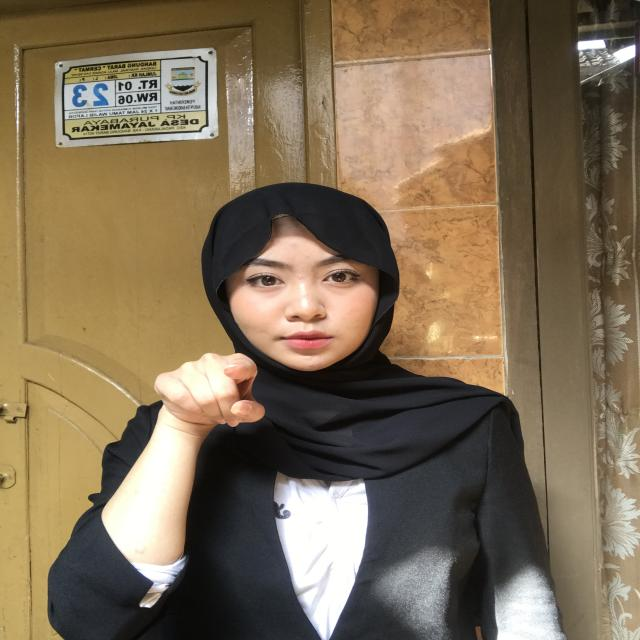kamu: (107, 340, 300, 464)
